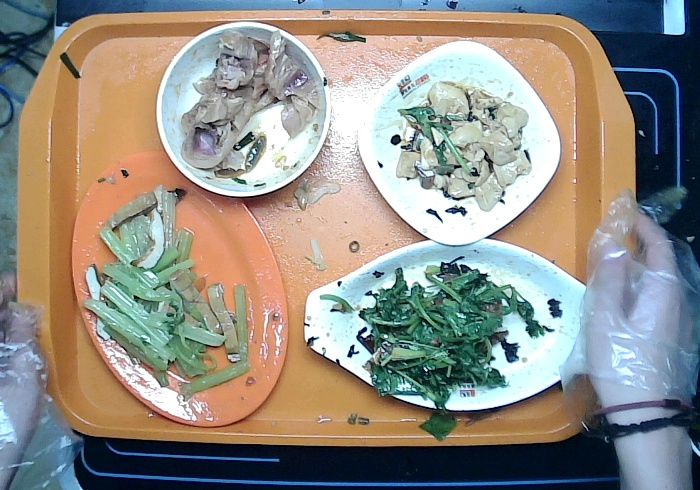NLDX-Bai_Se_Xiao_Fang_Die: (352, 35, 567, 253)
NLDX-Fan_Wan: (147, 17, 340, 207)
NLDX-Ju_Se_Pan: (63, 144, 297, 433)
NLDX-Yu_Pan: (296, 227, 609, 417)
